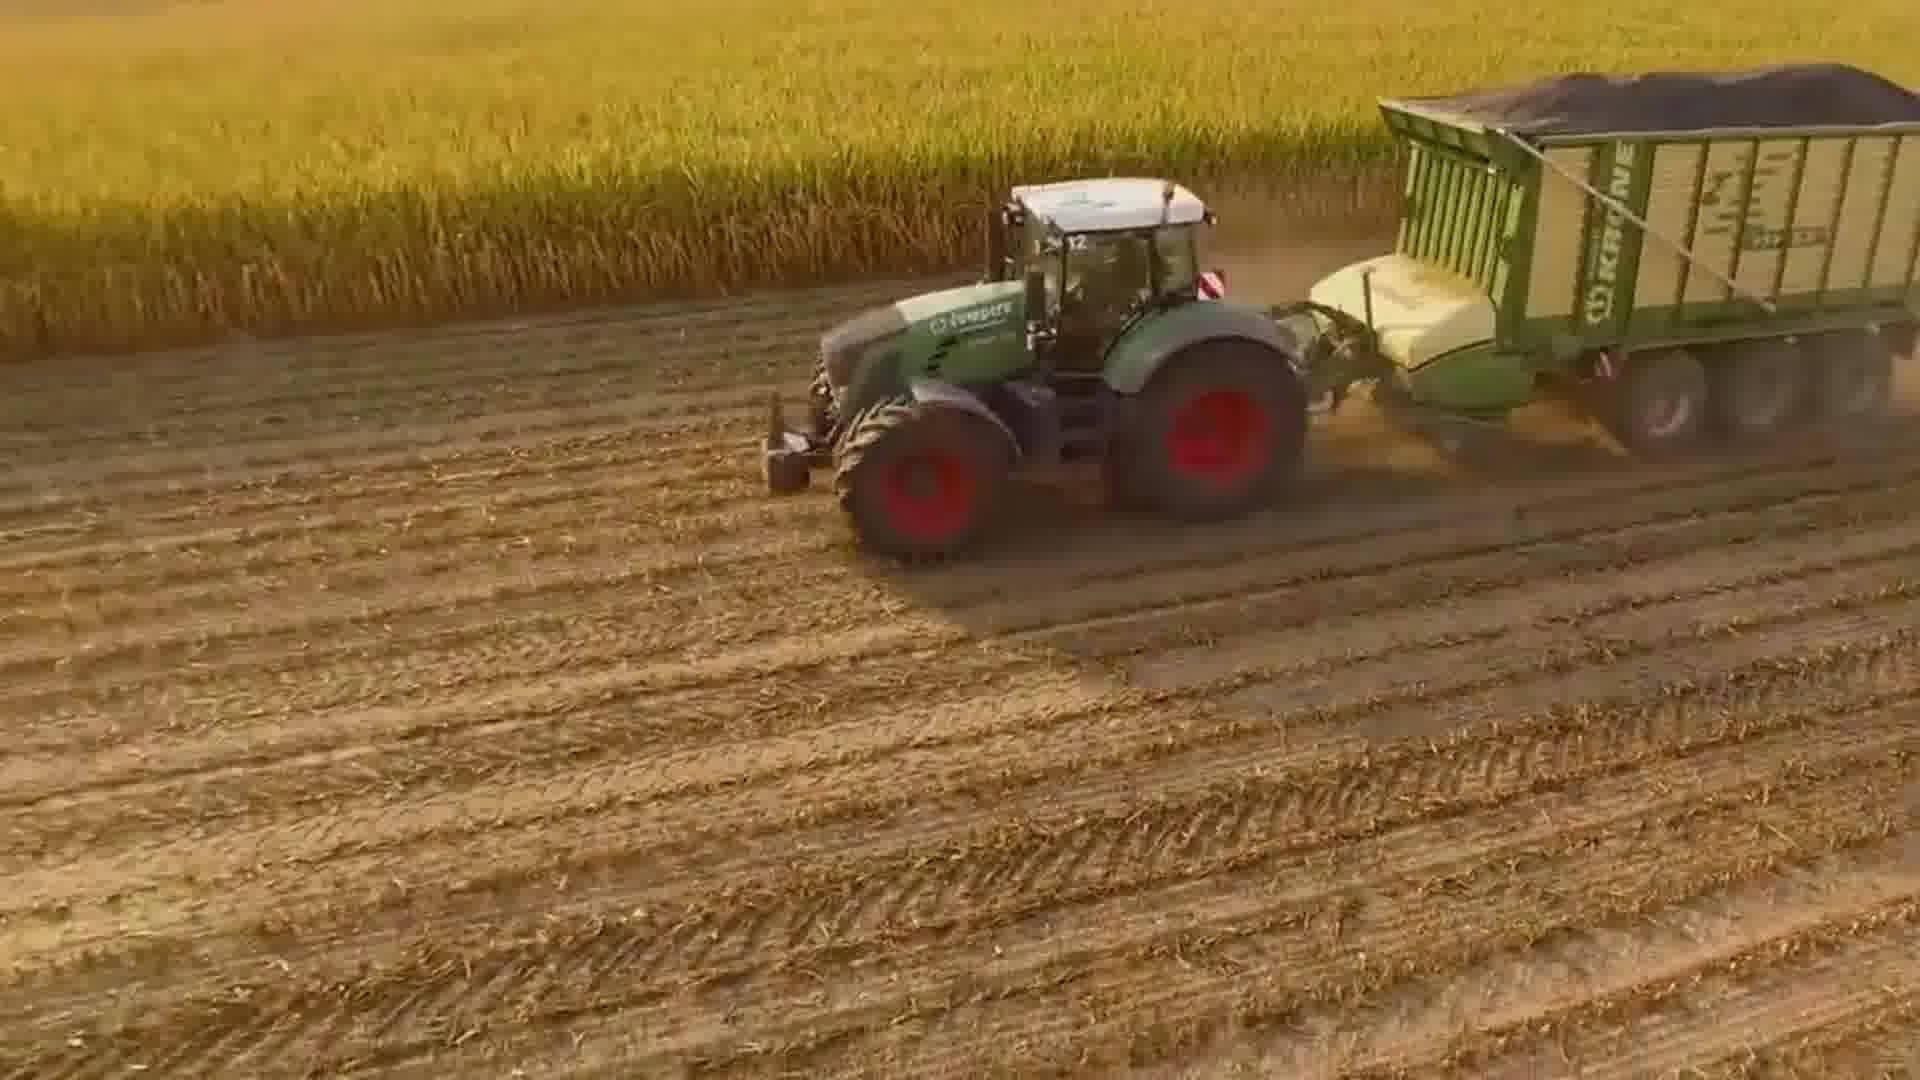tractor: (744, 167, 1304, 554)
trailer: (1295, 54, 1920, 462)
